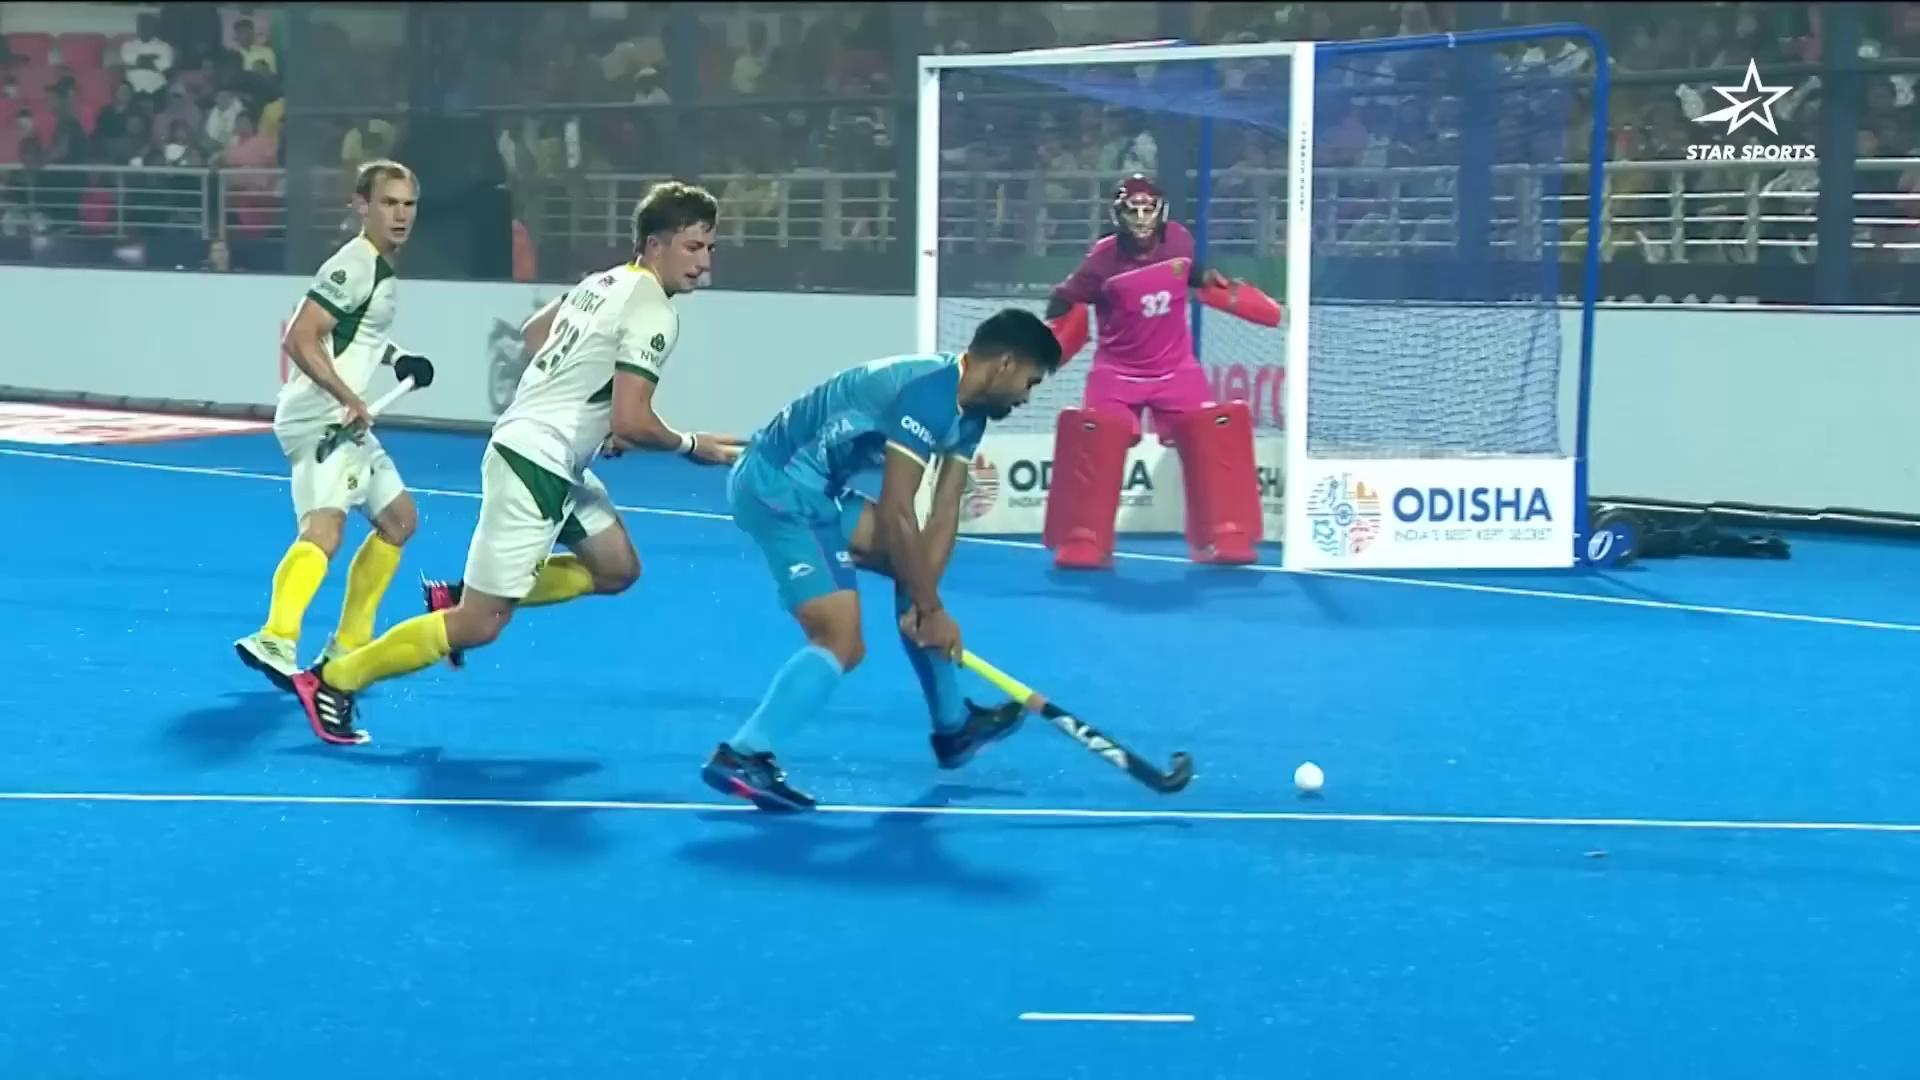ball: (1255, 727, 1341, 808)
